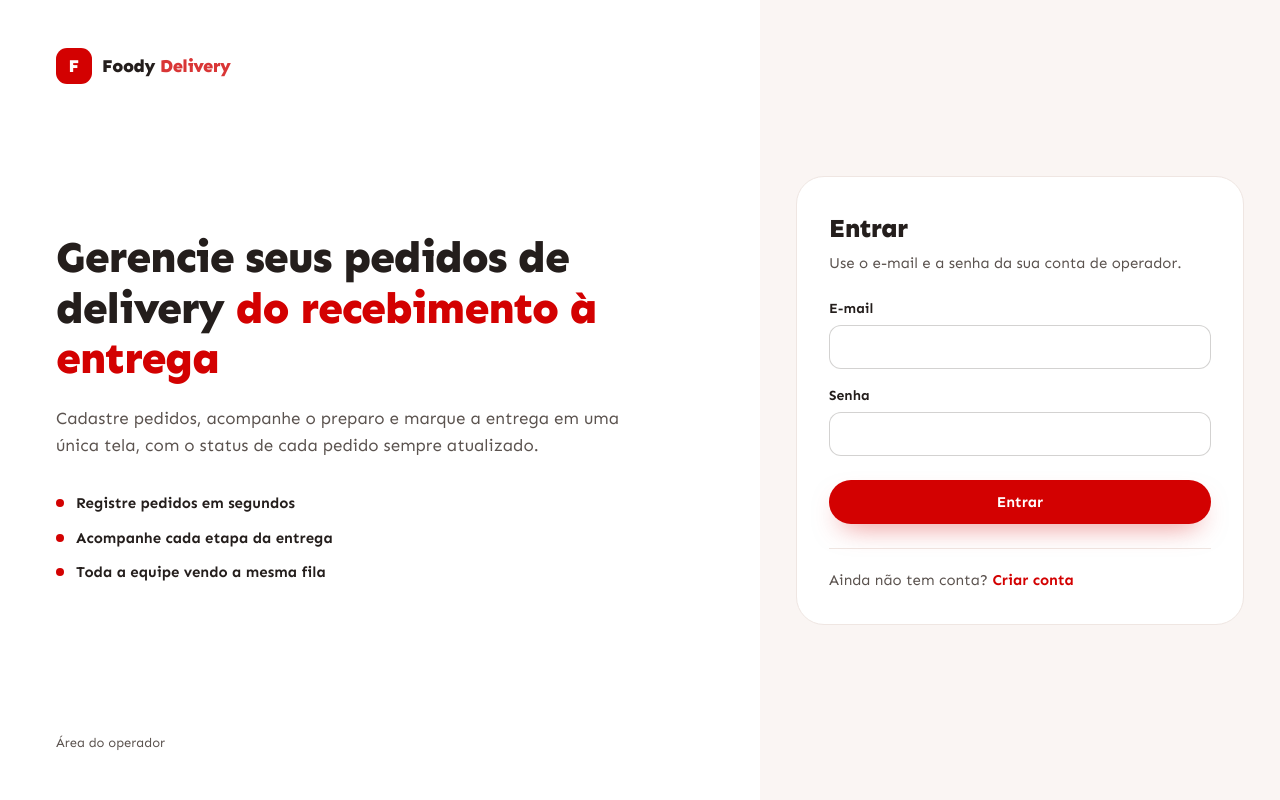
Test: autenticação › mostra o erro da API quando a senha está errada
In the field labelled "E-mail": (1020, 347) [829,325,1211,369], type "op@foody.com"
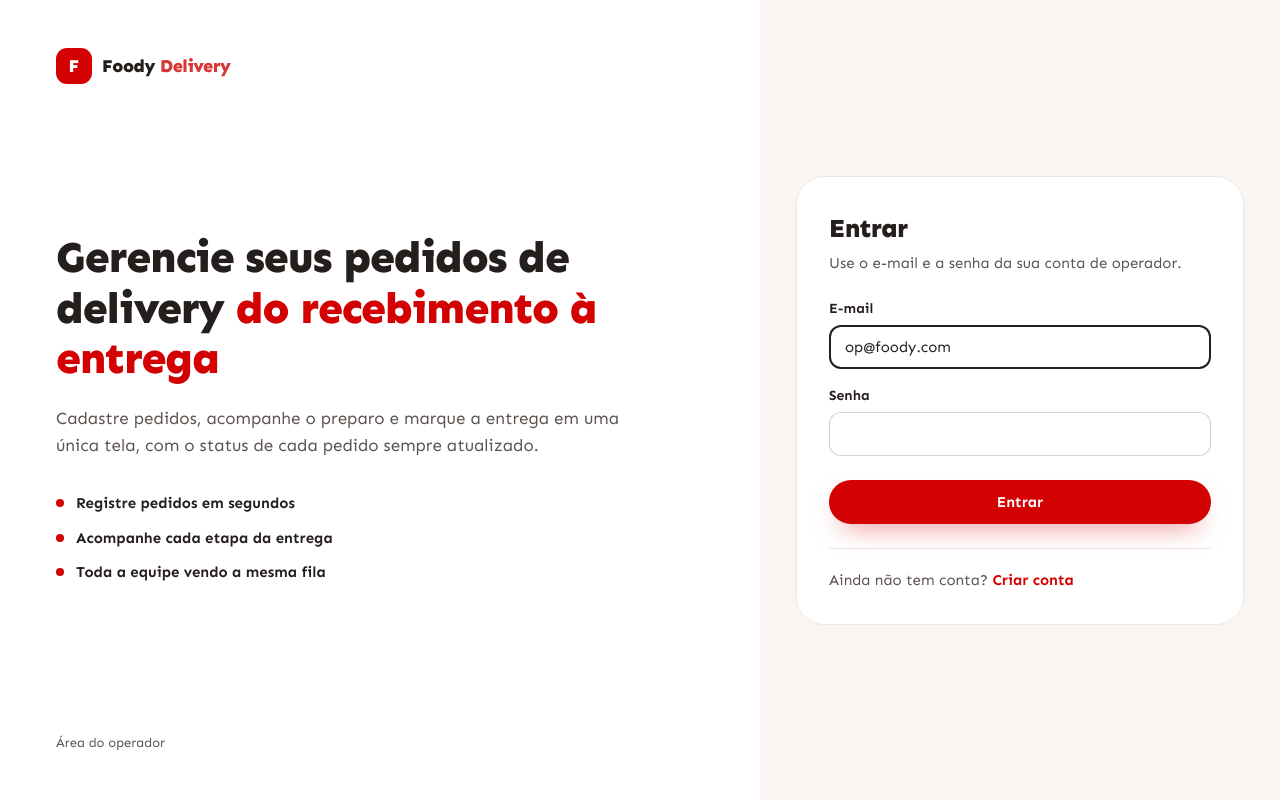
In the password field labelled "Senha": (1020, 434) [829,412,1211,456], type "errada"
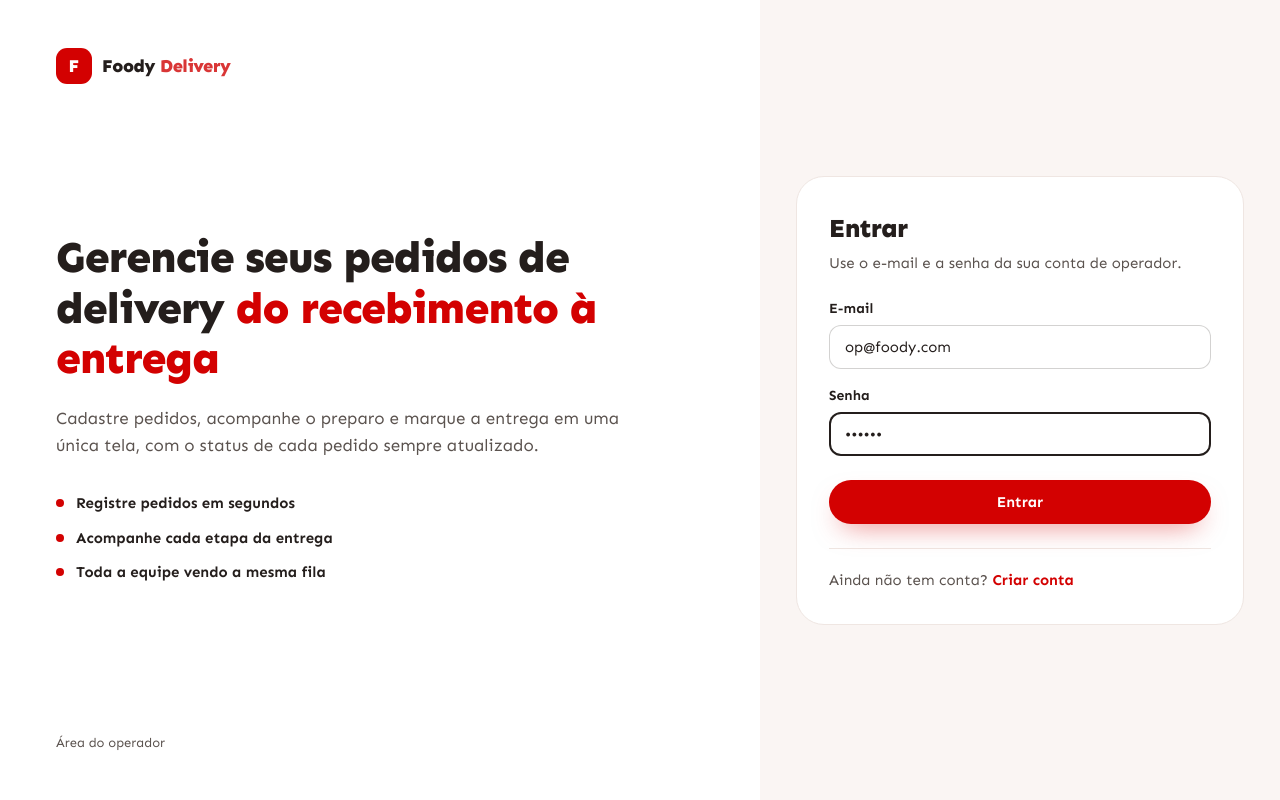
Click the button "Entrar": click(1020, 502) [829,480,1211,524]
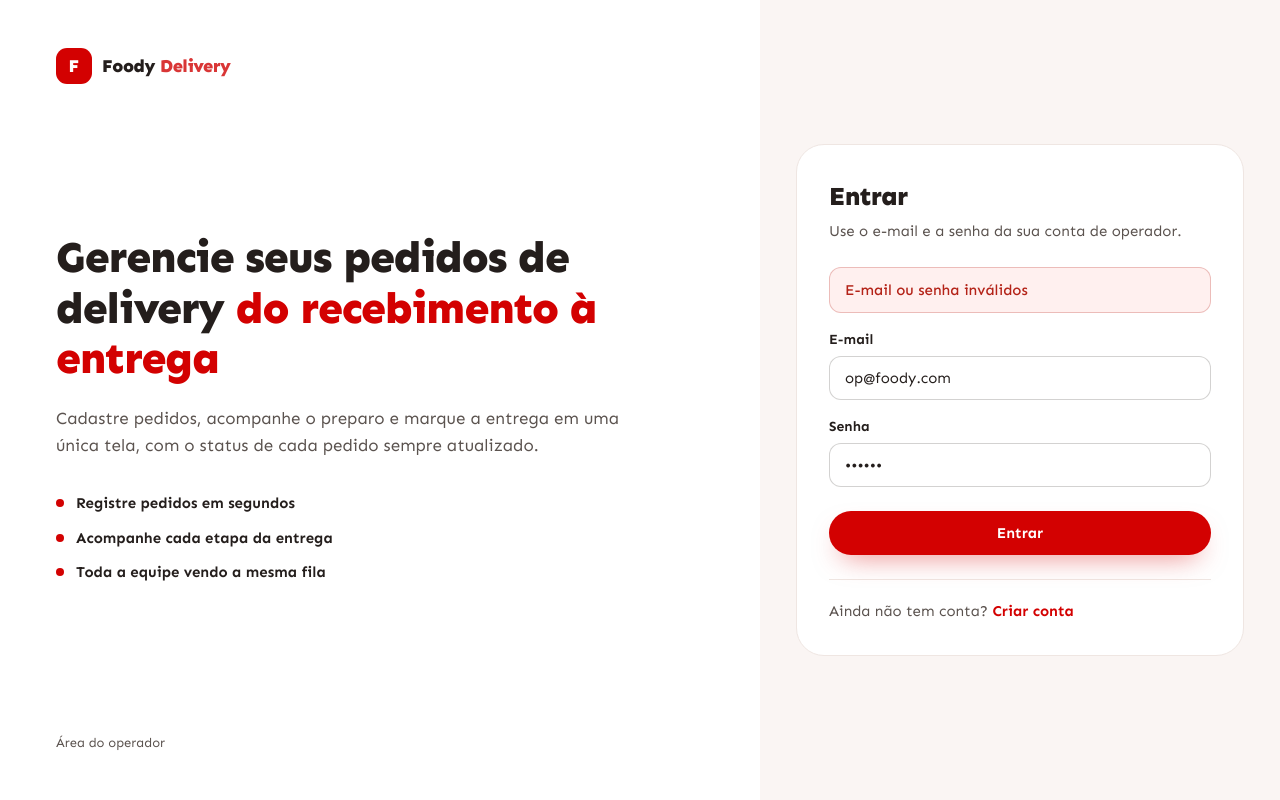
Expected: the message reads "E-mail ou senha inválidos", [845,281,1028,299]
